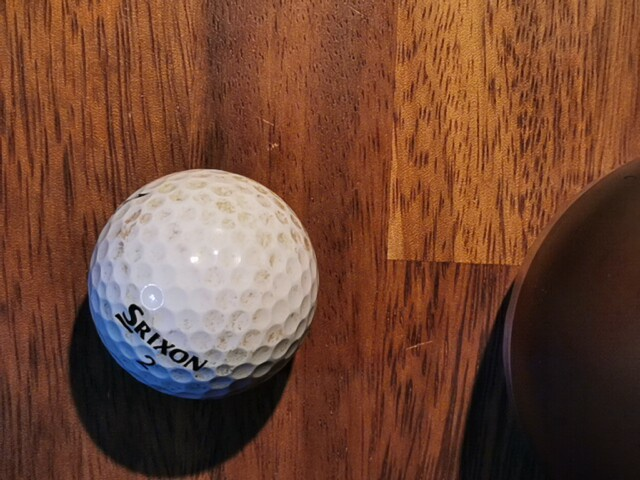Ball: (87, 168, 319, 401)
Srixon: (115, 303, 209, 372)
